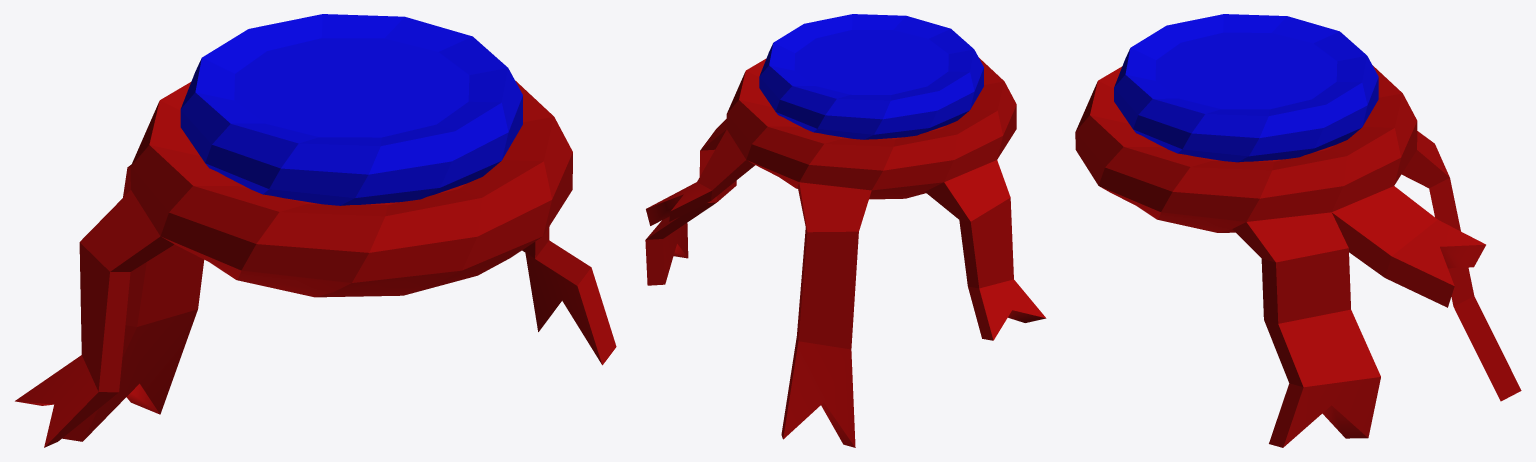
Rendered from Chr_HeadCoverings_BaseHair_Static_01.fbx.
The picture shows the model from 3 angles, left to right: view 1: azimuth 30°, elevation 25°; view 2: azimuth 150°, elevation 25°; view 3: azimuth 270°, elevation 25°; orthographic projection. The views are drawn at different scales.
Visible parts, largest first — view 1: Chr_HeadCoverings_Base_Hair_01; view 2: Chr_HeadCoverings_Base_Hair_01; view 3: Chr_HeadCoverings_Base_Hair_01.
Part boxes in pixels (x1,y1,x2,y2): Chr_HeadCoverings_Base_Hair_01: (15, 14, 616, 447); Chr_HeadCoverings_Base_Hair_01: (645, 14, 1046, 447); Chr_HeadCoverings_Base_Hair_01: (1075, 14, 1521, 447).
Bounding box in the file's own units: 41.59 × 30.96 × 36.11.
